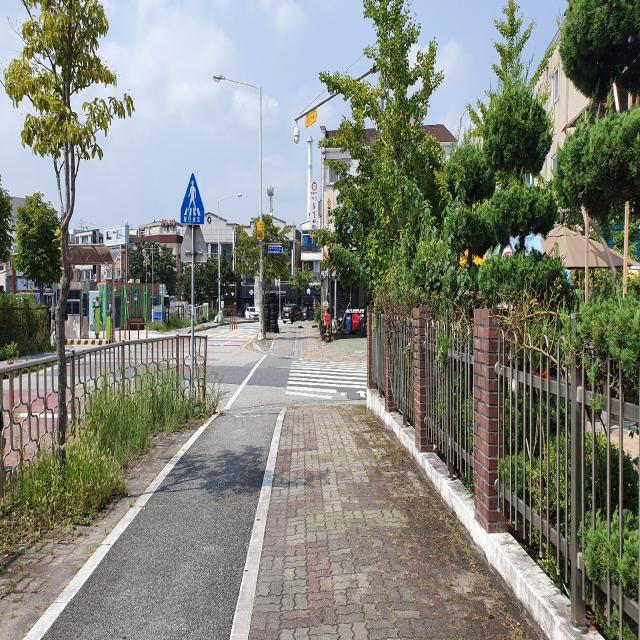횡단보도: (285, 358, 367, 400)
